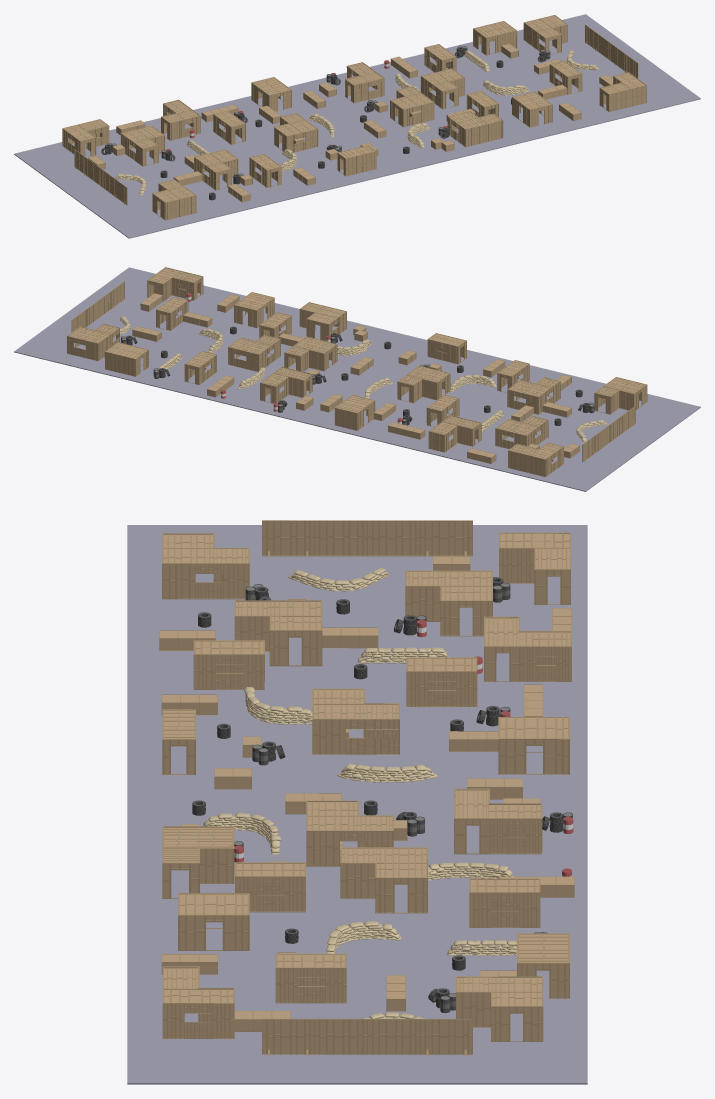
The model's file is low-poly_fps_map.glb.
The picture shows the model from 3 angles, top to bottom: view 1: azimuth 30°, elevation 25°; view 2: azimuth 150°, elevation 25°; view 3: azimuth 270°, elevation 25°; orthographic projection. The views are drawn at different scales.
Parts seen in each view (by area): view 1: Cube_New_Material_0_23, Plane_034_Material_153_0_6, Plane_034_Material_155_0_7, Plane_034_Material_154_0_5, Plane_034_Material_155_0_8, Plane_034_Material_146_0_20, Plane_034_Material_152_0_10, Plane_034_Material_146_0_21, Plane_034_Material_151_0_9; view 2: Cube_New_Material_0_23, Plane_034_Material_153_0_6, Plane_034_Material_155_0_7, Plane_034_Material_154_0_5, Plane_034_Material_155_0_8, Plane_034_Material_146_0_20, Plane_034_Material_152_0_10, Plane_034_Material_146_0_21; view 3: Cube_New_Material_0_23, Plane_034_Material_153_0_6, Plane_034_Material_155_0_7, Plane_034_Material_154_0_5, Plane_034_Material_146_0_20, Plane_034_Material_155_0_8, Plane_034_Material_146_0_21, Plane_034_Material_152_0_10, Plane_034_Material_189_0_16.
Part boxes in pixels (x1=…): Cube_New_Material_0_23: x1=14, y1=14, x2=700, y2=238; Plane_034_Material_153_0_6: x1=62, y1=15, x2=645, y2=219; Plane_034_Material_155_0_7: x1=62, y1=16, x2=643, y2=219; Plane_034_Material_154_0_5: x1=62, y1=15, x2=646, y2=220; Plane_034_Material_155_0_8: x1=252, y1=22, x2=645, y2=152; Plane_034_Material_146_0_20: x1=115, y1=50, x2=598, y2=195; Plane_034_Material_152_0_10: x1=101, y1=47, x2=546, y2=200; Plane_034_Material_146_0_21: x1=187, y1=51, x2=489, y2=171; Plane_034_Material_151_0_9: x1=101, y1=47, x2=545, y2=194; Cube_New_Material_0_23: x1=14, y1=267, x2=700, y2=491; Plane_034_Material_153_0_6: x1=67, y1=268, x2=646, y2=476; Plane_034_Material_155_0_7: x1=69, y1=269, x2=646, y2=475; Plane_034_Material_154_0_5: x1=67, y1=267, x2=647, y2=477; Plane_034_Material_155_0_8: x1=68, y1=278, x2=444, y2=430; Plane_034_Material_146_0_20: x1=120, y1=316, x2=607, y2=441; Plane_034_Material_152_0_10: x1=126, y1=326, x2=589, y2=448; Plane_034_Material_146_0_21: x1=158, y1=340, x2=496, y2=430; Cube_New_Material_0_23: x1=127, y1=525, x2=587, y2=1084; Plane_034_Material_153_0_6: x1=159, y1=521, x2=574, y2=1054; Plane_034_Material_155_0_7: x1=162, y1=521, x2=571, y2=1055; Plane_034_Material_154_0_5: x1=159, y1=520, x2=574, y2=1054; Plane_034_Material_146_0_20: x1=204, y1=568, x2=516, y2=1018; Plane_034_Material_155_0_8: x1=163, y1=717, x2=569, y2=1038; Plane_034_Material_146_0_21: x1=202, y1=647, x2=516, y2=955; Plane_034_Material_152_0_10: x1=192, y1=577, x2=563, y2=1008; Plane_034_Material_189_0_16: x1=234, y1=582, x2=572, y2=1013.
Bounding box in the file's own units: 200 × 6.25 × 69.75.
